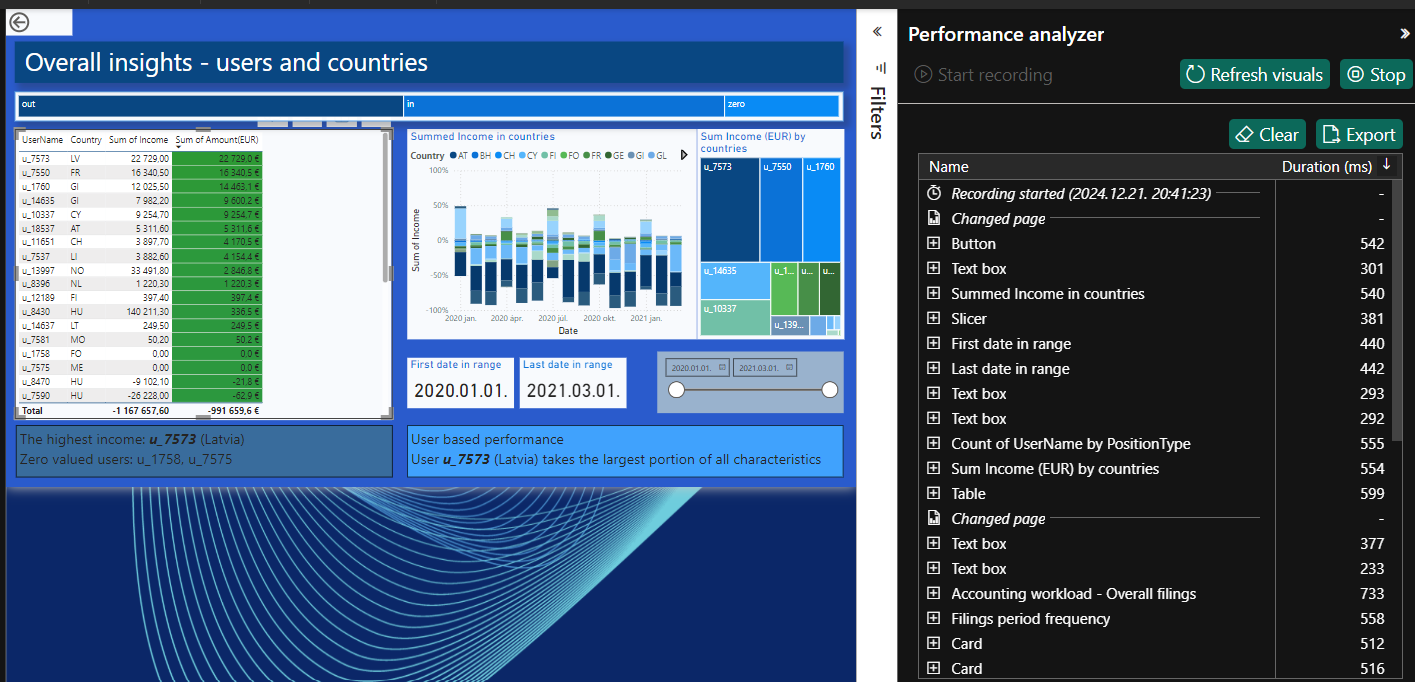

Layout of this report page (visuals, bound fields, positions):
{"tool":"powerbi","page":{"name":"Ins_1","canvas":[1280,720],"ordinal":1},"visuals":[{"type":"tableEx","fields":{"Values":["DATA.UserName","DATA.Country","Sum(DATA.Income)","Sum(DATA.Amount(EUR))"]},"box":[13.8,180,567.5,438.3],"z":0},{"type":"actionButton","box":[0,0,100,40],"z":1000},{"type":"slicer","fields":{"Values":["DATA.CorrEndDate"]},"box":[981.4,516.7,280.6,93.2],"z":2000},{"type":"hundredPercentStackedColumnChart","title":"Summed Income in countries","fields":{"Category":["DATA.CorrEndDate.Variation.Date Hierarchy.Year"],"Series":["DATA.Country"],"Y":["Sum(DATA.Income)"]},"box":[604.5,180,436.2,316.6],"z":3000},{"type":"treemap","fields":{"Group":["DATA.IncomeType"],"Values":["CountNonNull(DATA.UserName)"]},"box":[14,124,1247.8,45],"z":4000},{"type":"textbox","box":[13.8,49.8,1248.2,62.5],"z":5000},{"type":"textbox","box":[14.3,627.1,567.1,78.6],"z":7000},{"type":"textbox","box":[604.3,627.1,657.1,78.6],"z":8000},{"type":"card","title":"First date in range","fields":{"Values":["Calculations.FirstDate_msr"]},"box":[604.5,525.1,160.9,76.2],"z":9000},{"type":"card","title":"Last date in range","fields":{"Values":["Calculations.LastDate_msr"]},"box":[772.9,525.1,160.9,76.2],"z":10000},{"type":"treemap","title":"Sum Income (EUR) by countries","fields":{"Values":["Sum(DATA.Amount(EUR))"],"Group":["DATA.UserName"]},"box":[1040.7,180,221.3,316.6],"z":11000}]}

Visuals, with their boxes on the page's 1280x720 design canvas (x1, y1, x2, y2). These are canvas units, not pixel positions in the 1415x682 screenshot, which may show the page scaled, cropped or inside an application window:
tableEx - DATA.UserName x DATA.Country: {"x1": 14, "y1": 180, "x2": 581, "y2": 618}
actionButton: {"x1": 0, "y1": 0, "x2": 100, "y2": 40}
slicer - DATA.CorrEndDate: {"x1": 981, "y1": 517, "x2": 1262, "y2": 610}
"Summed Income in countries" hundredPercentStackedColumnChart: {"x1": 604, "y1": 180, "x2": 1041, "y2": 497}
treemap - DATA.IncomeType x CountNonNull(DATA.UserName): {"x1": 14, "y1": 124, "x2": 1262, "y2": 169}
textbox: {"x1": 14, "y1": 50, "x2": 1262, "y2": 112}
textbox: {"x1": 14, "y1": 627, "x2": 581, "y2": 706}
textbox: {"x1": 604, "y1": 627, "x2": 1261, "y2": 706}
"First date in range" card: {"x1": 604, "y1": 525, "x2": 765, "y2": 601}
"Last date in range" card: {"x1": 773, "y1": 525, "x2": 934, "y2": 601}
"Sum Income (EUR) by countries" treemap: {"x1": 1041, "y1": 180, "x2": 1262, "y2": 497}
